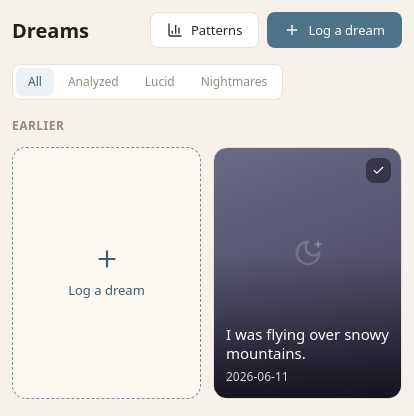
Test case: Dreams analysis UI › shows a status-aware analyze entry on a saved dream
The image size is (414, 416).
Click the text "I was flying over snowy mountains." at (308, 344), box [226, 325, 389, 363]
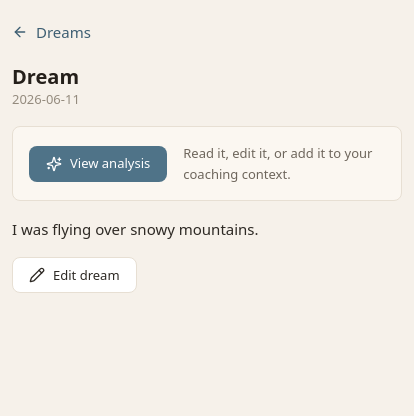
Check: the button "View analysis" is shown, box [29, 146, 167, 182]
